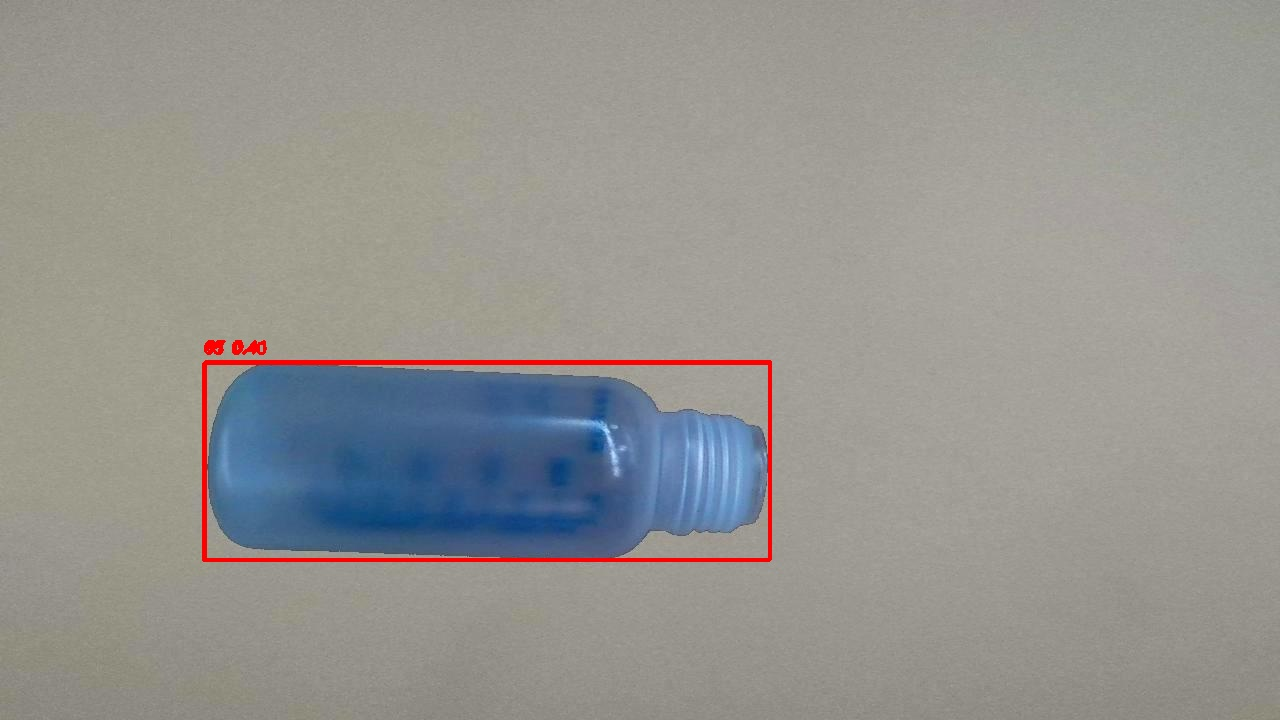cup: (205, 361, 770, 559), (203, 363, 769, 560)
